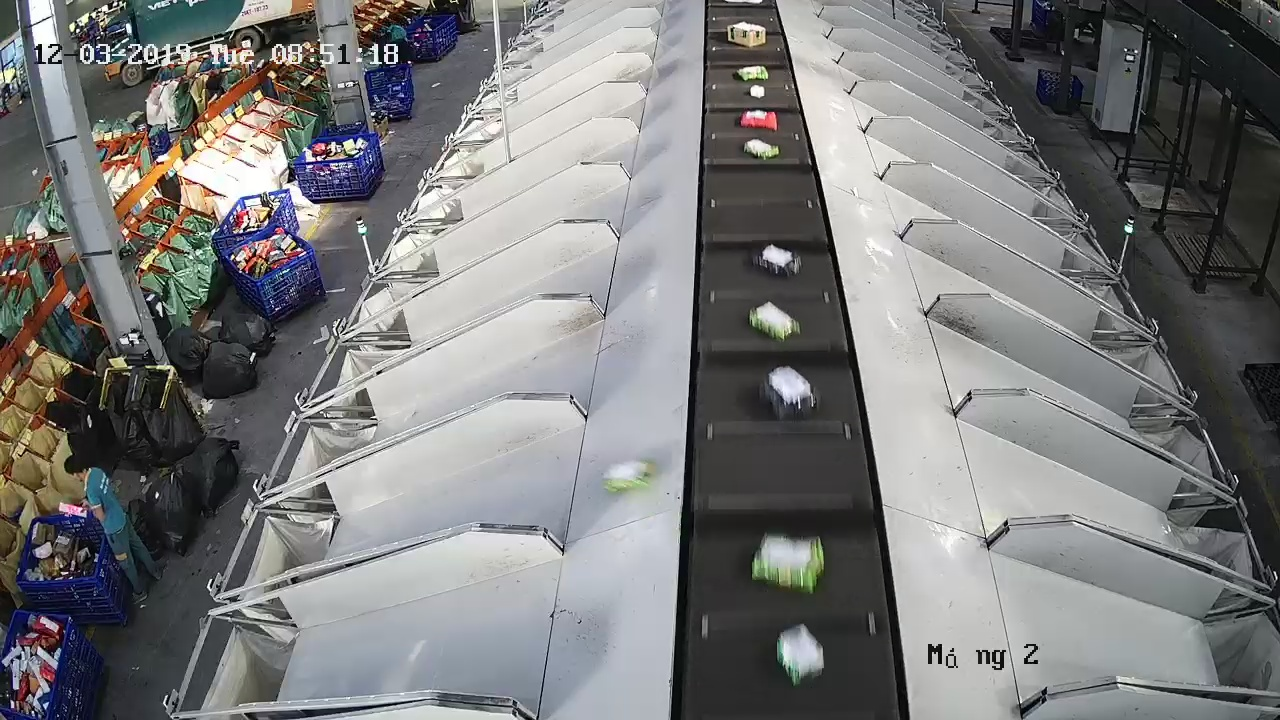parcel: (751, 530, 826, 597), (757, 363, 823, 422), (774, 621, 826, 688), (747, 299, 802, 344), (600, 457, 656, 494), (750, 241, 803, 278), (742, 136, 781, 161)
